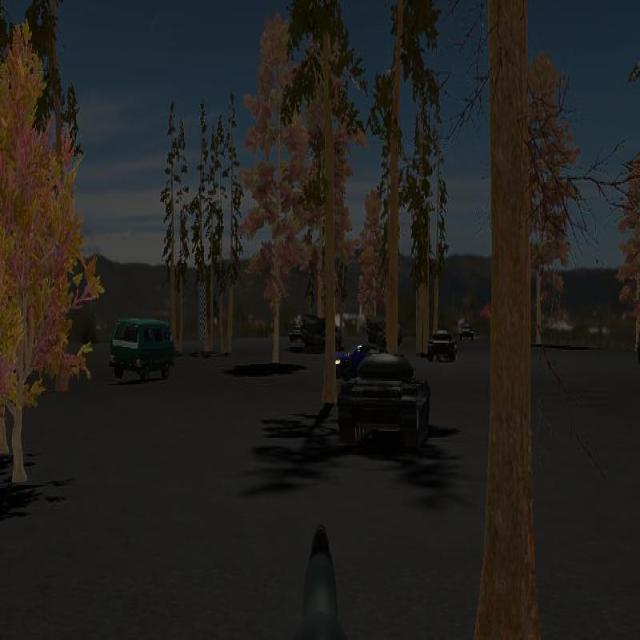Tank: (337, 350, 430, 453)
car: (110, 317, 174, 382)
